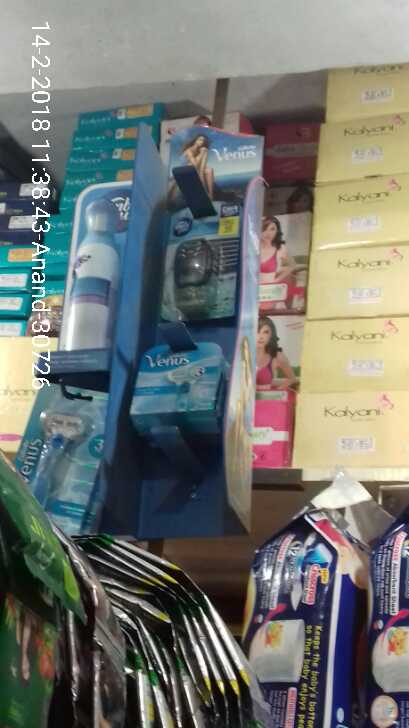beauty: (10, 383, 115, 534), (137, 333, 230, 421)
home: (55, 185, 133, 357), (150, 191, 239, 324)
